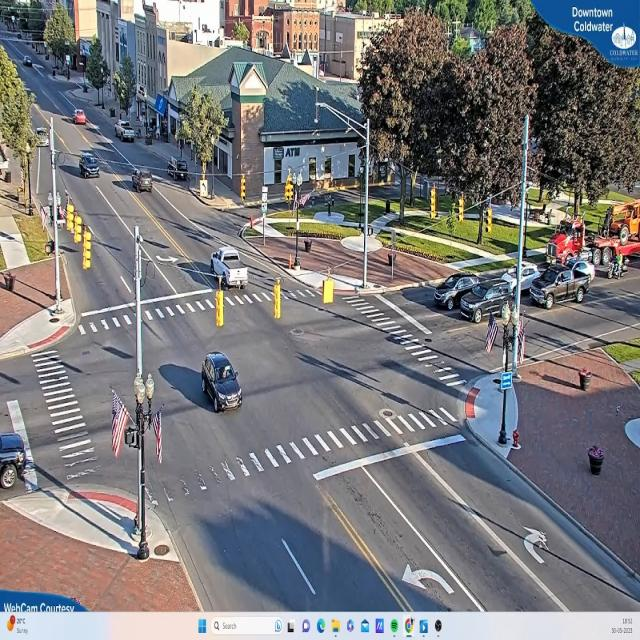car: (202, 351, 245, 413), (534, 268, 594, 310), (460, 281, 513, 324), (432, 270, 477, 308), (210, 247, 250, 288), (501, 257, 539, 294), (81, 153, 101, 178), (118, 121, 138, 143), (73, 110, 88, 126)
